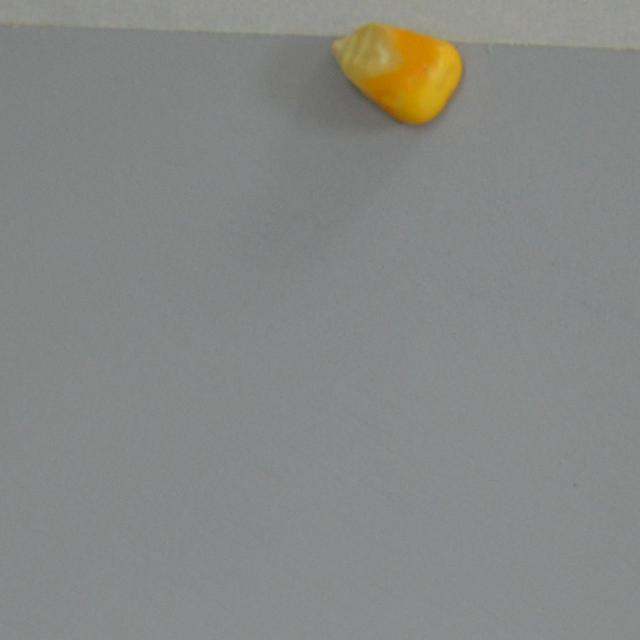entero: (328, 17, 462, 126)
